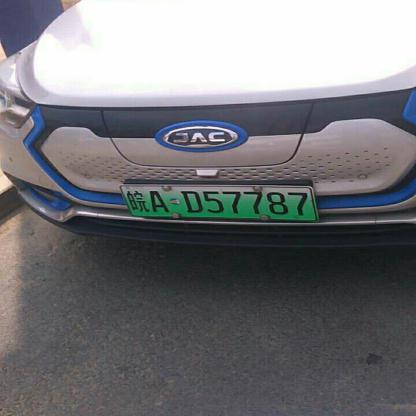lp: (120, 184, 318, 219)
